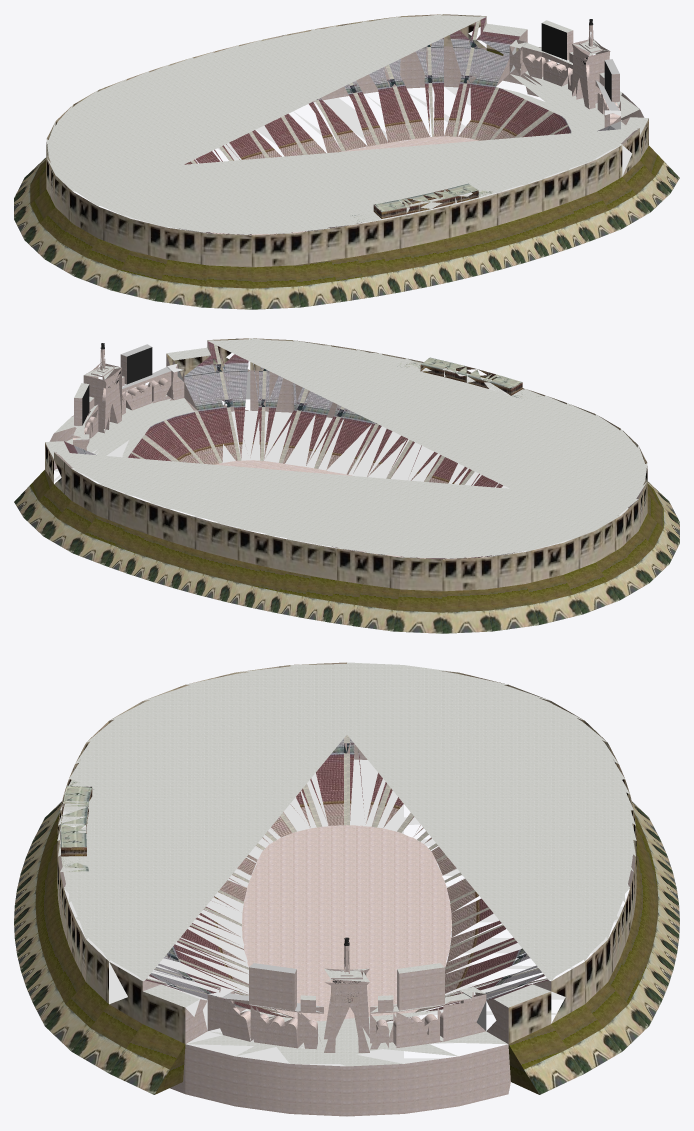
The model's file is LA+Coliseum.fbx.
3 renders of one model, top to bottom at view 1: azimuth 30°, elevation 25°; view 2: azimuth 150°, elevation 25°; view 3: azimuth 270°, elevation 25°, orthographic. The views are drawn at different scales.
Visible parts, largest first — view 1: Layer0; view 2: Layer0; view 3: Layer0.
Boxes of the visible parts, x1,y1,x2,y2 form: Layer0: [14, 14, 679, 309]; Layer0: [14, 338, 679, 633]; Layer0: [14, 662, 679, 1116].
Size of the model in its own units: 338 by 253 by 66.18.
Materials: 15 (12 with a texture image).
